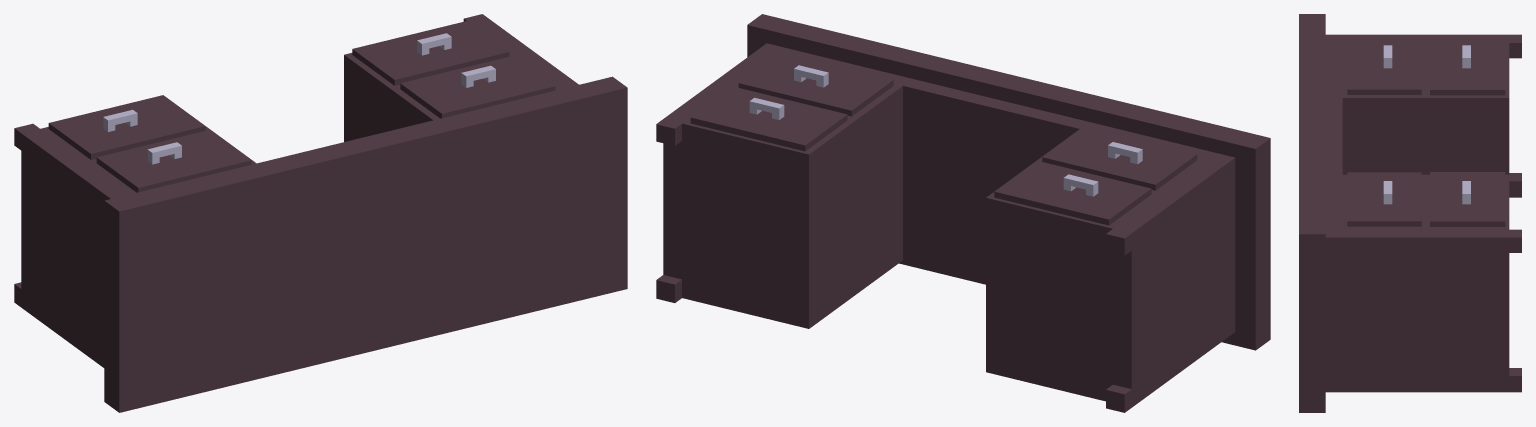
File: BossDesk.fbx
3 renders of one model, left to right at view 1: azimuth 30°, elevation 25°; view 2: azimuth 150°, elevation 25°; view 3: azimuth 270°, elevation 25°, orthographic. The views are drawn at different scales.
Parts seen in each view (by area): view 1: BossDesk; view 2: BossDesk; view 3: BossDesk, DeskHandlesBoss, DeskHandlesBoss.003, DeskHandlesBoss.001, DeskHandlesBoss.002.
Part boxes in pixels (x1,y1,x2,y2): BossDesk: [14, 14, 627, 412]; BossDesk: [656, 14, 1270, 412]; BossDesk: [1299, 14, 1521, 412]; DeskHandlesBoss: [1383, 45, 1392, 68]; DeskHandlesBoss.003: [1383, 181, 1392, 204]; DeskHandlesBoss.001: [1462, 45, 1470, 68]; DeskHandlesBoss.002: [1462, 181, 1470, 204].
Size of the model in its own units: 90174 by 34851 by 38583.
5 materials, 5 textured.
